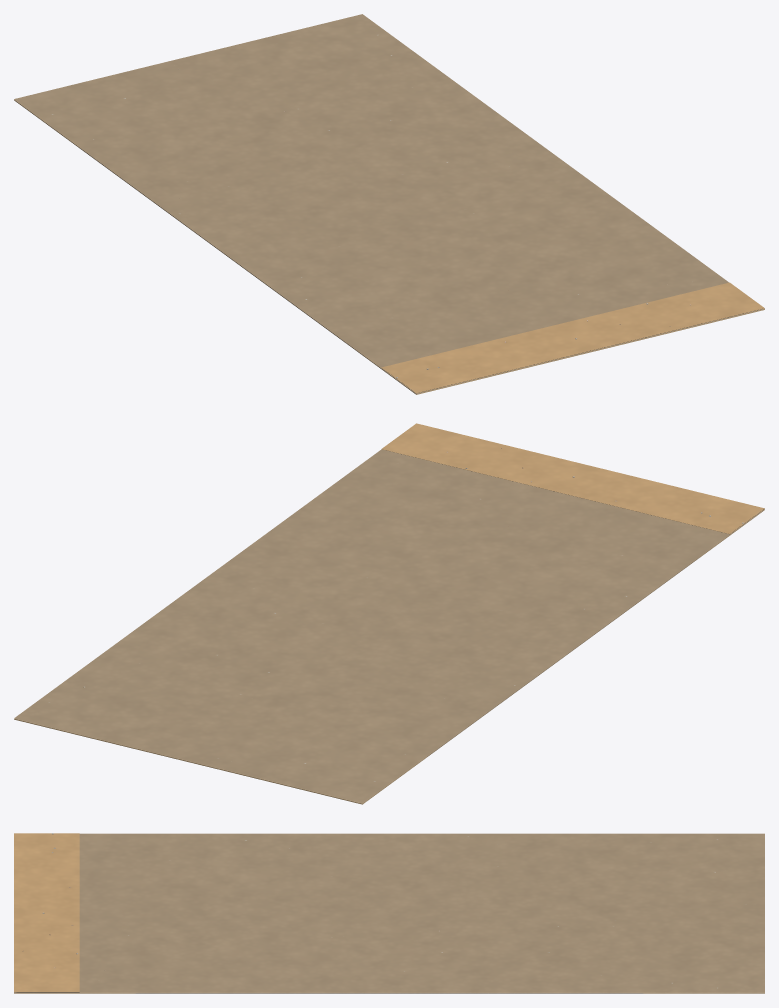
File: ground_cliffs.glb
3 views of the same model, one above another, from view 1: azimuth 30°, elevation 25°; view 2: azimuth 150°, elevation 25°; view 3: azimuth 270°, elevation 25° (orthographic). The views are drawn at different scales.
Visible parts, largest first — view 1: SM_GroundCliffs; view 2: SM_GroundCliffs; view 3: SM_GroundCliffs.
Part boxes in pixels (box(x1,y1,x2,y2)): SM_GroundCliffs: box(14, 14, 764, 394); SM_GroundCliffs: box(14, 423, 764, 804); SM_GroundCliffs: box(14, 833, 764, 993).
Size of the model in its own units: 40 by 0.2523 by 80.
Materials: 1 (1 with a texture image).
